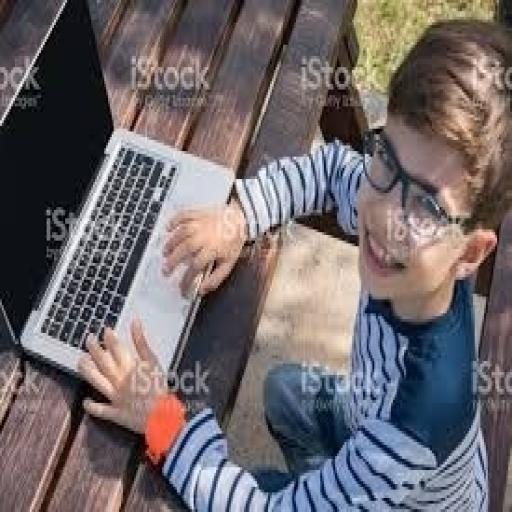using_laptop: (0, 16, 277, 405)
